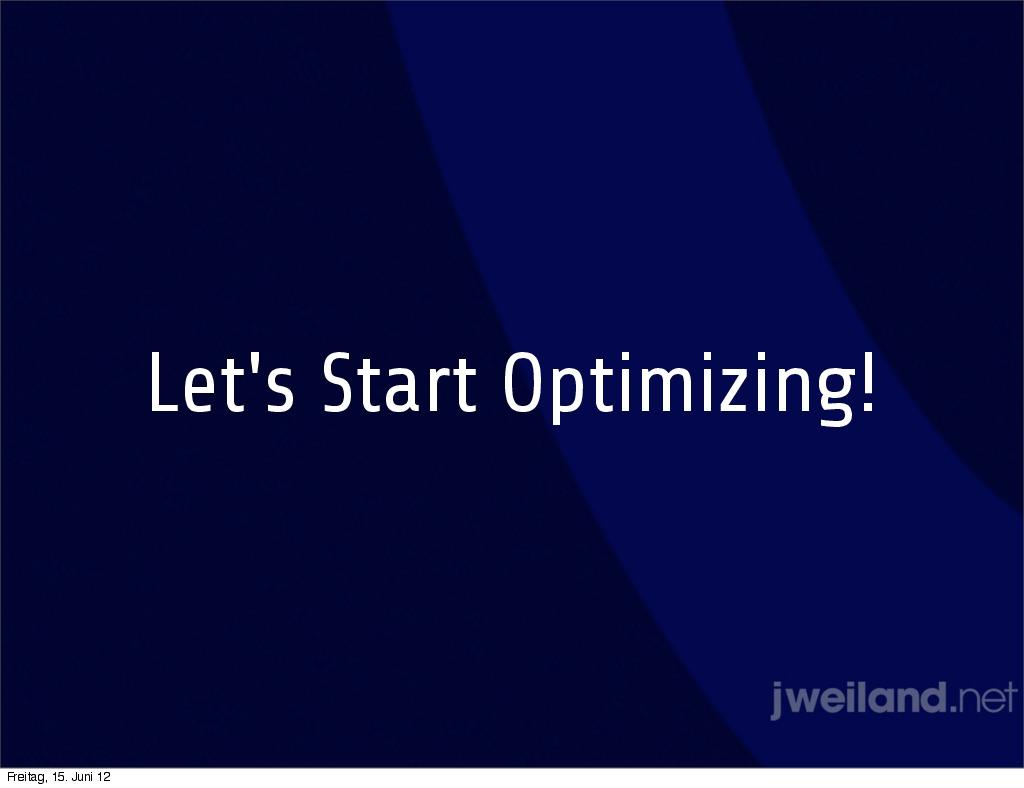subtitle: (757, 641, 1024, 737)
title: (143, 296, 924, 447)
